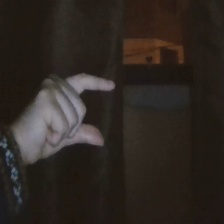G: (18, 68, 120, 172)
